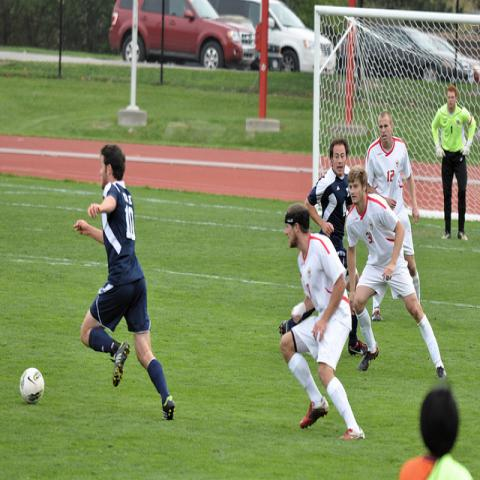car: (109, 0, 256, 69), (207, 0, 338, 76), (356, 22, 476, 87)
